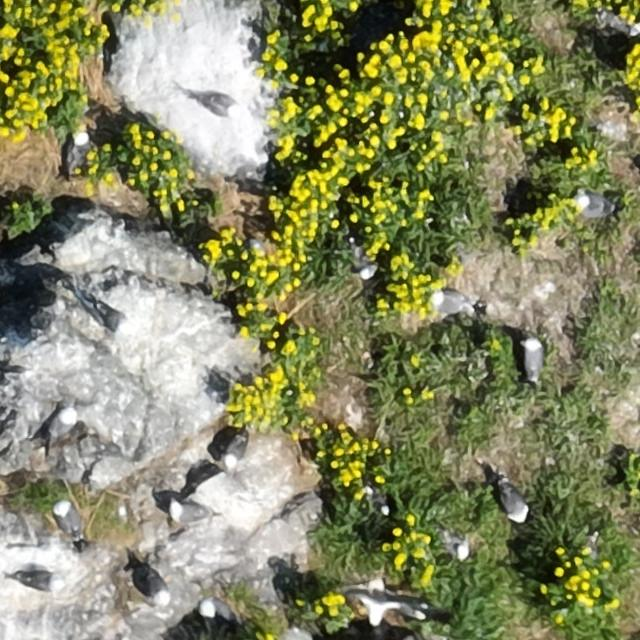F: (338, 575, 427, 625)
umineko: (41, 408, 78, 457), (93, 302, 134, 336), (501, 486, 528, 522), (602, 13, 638, 36), (522, 336, 542, 377), (432, 292, 471, 313), (56, 504, 81, 536), (14, 572, 55, 591), (576, 194, 609, 216), (200, 95, 236, 115), (442, 534, 469, 559), (147, 572, 169, 602), (68, 130, 88, 163), (355, 246, 375, 278), (171, 503, 204, 522), (202, 600, 230, 620), (226, 439, 245, 465)
